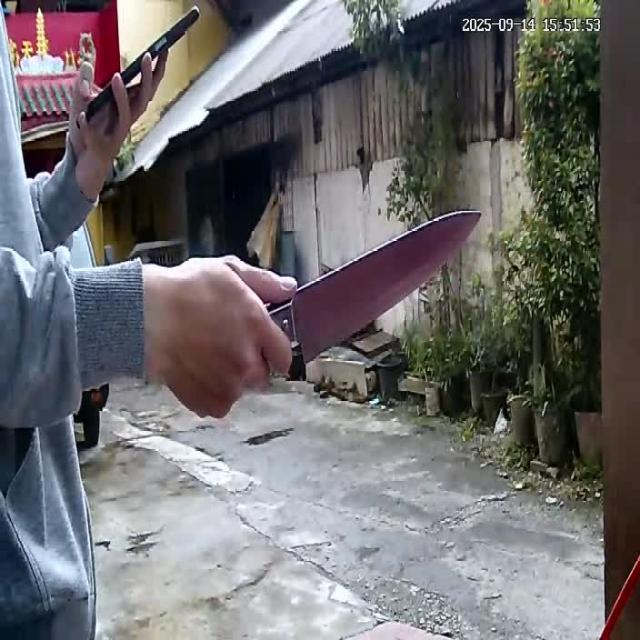senjata_tajam: (292, 206, 486, 364)
